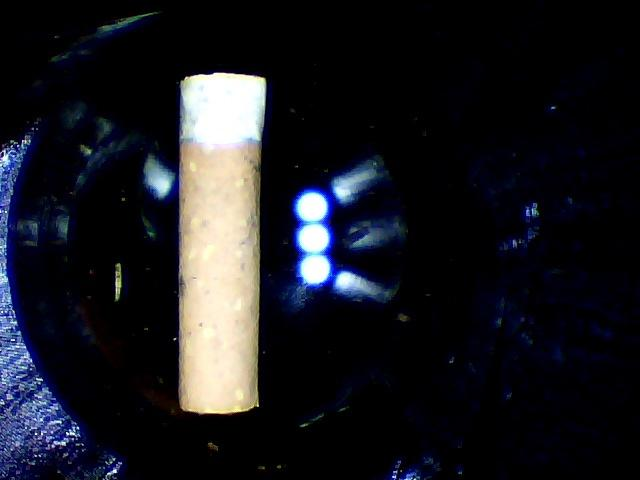megot: (172, 61, 273, 425)
